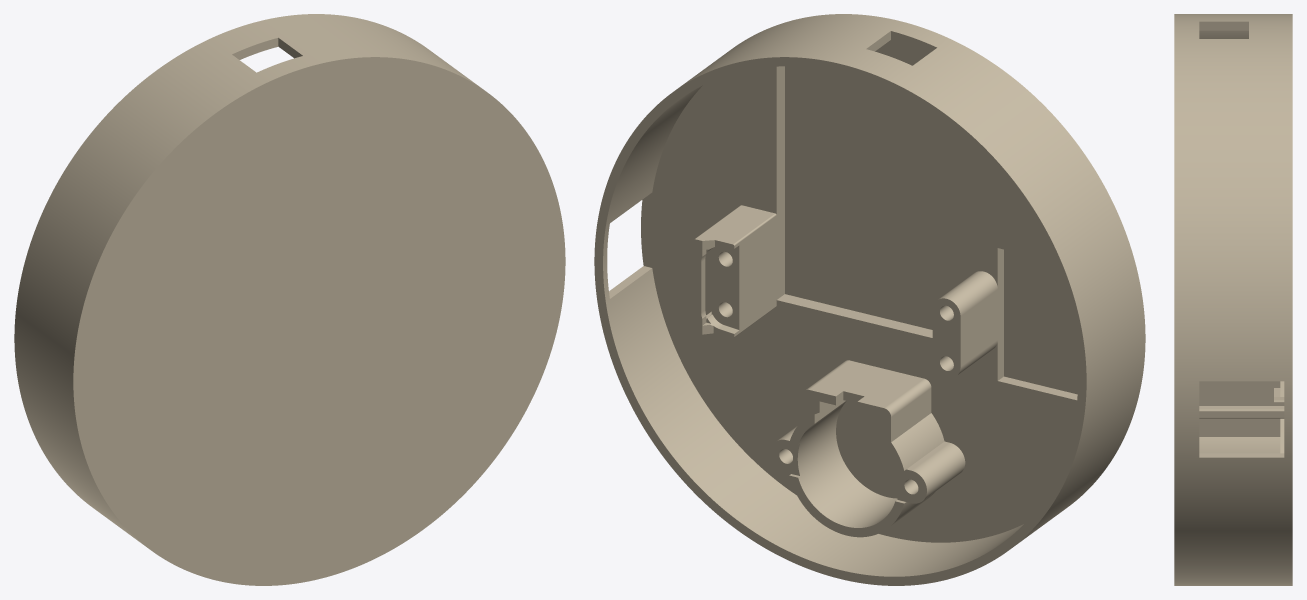
The model's file is frame.glb.
3 renders of one model, left to right at view 1: azimuth 30°, elevation 25°; view 2: azimuth 150°, elevation 25°; view 3: azimuth 270°, elevation 25°, orthographic.
Parts seen in each view (by area): view 1: frame; view 2: frame; view 3: frame.
Boxes of the visible parts, left/top/right/bottom form: frame: left=14, top=14, right=565, bottom=585; frame: left=594, top=14, right=1145, bottom=585; frame: left=1174, top=14, right=1292, bottom=585.
Size of the model in its own units: 138 by 138 by 28.5.
